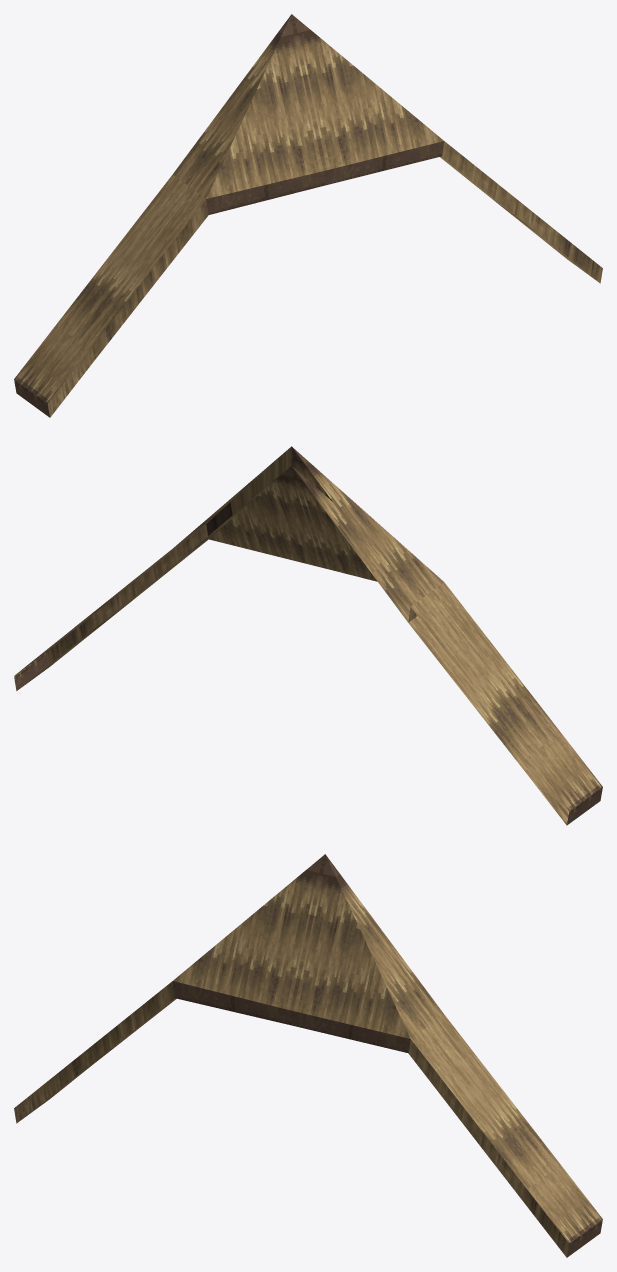
File: roof_straw_end.glb
3 views of the same model, one above another, from view 1: azimuth 30°, elevation 25°; view 2: azimuth 150°, elevation 25°; view 3: azimuth 330°, elevation 25° (orthographic).
Parts seen in each view (by area): view 1: roof_straw_end; view 2: roof_straw_end; view 3: roof_straw_end.
Boxes of the visible parts, <box> form: roof_straw_end: <box>14,14,602,417</box>; roof_straw_end: <box>14,446,602,825</box>; roof_straw_end: <box>14,854,602,1257</box>.
Bounding box in the file's own units: 4.76 × 2.56 × 0.5.
Materials: 1 (1 with a texture image).
